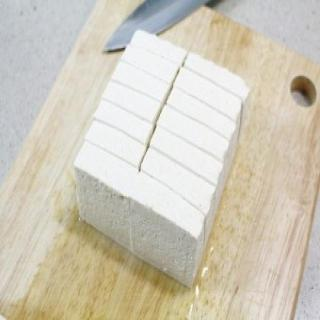Tahu: (73, 32, 251, 289)
